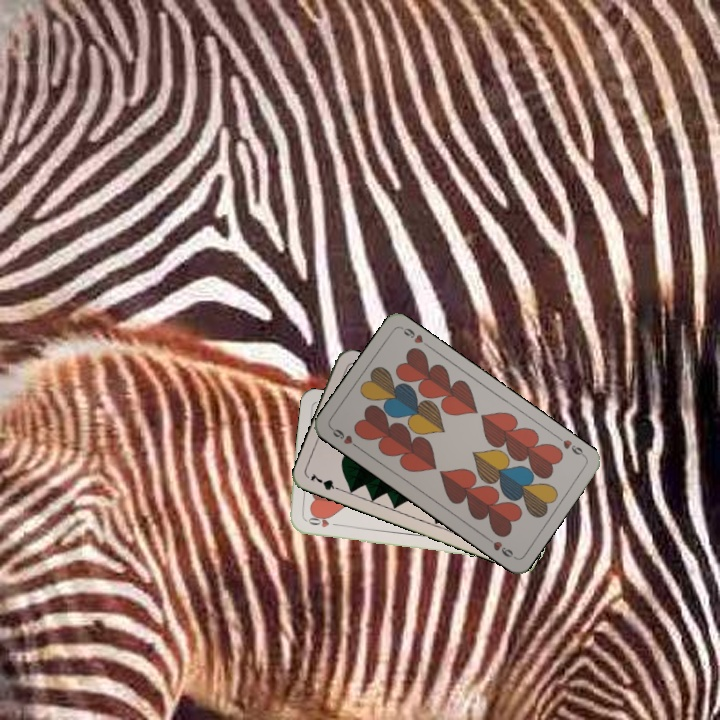G7: (306, 469, 345, 494)
H9: (327, 424, 363, 452), (552, 432, 588, 460)
HO: (301, 513, 342, 530)
